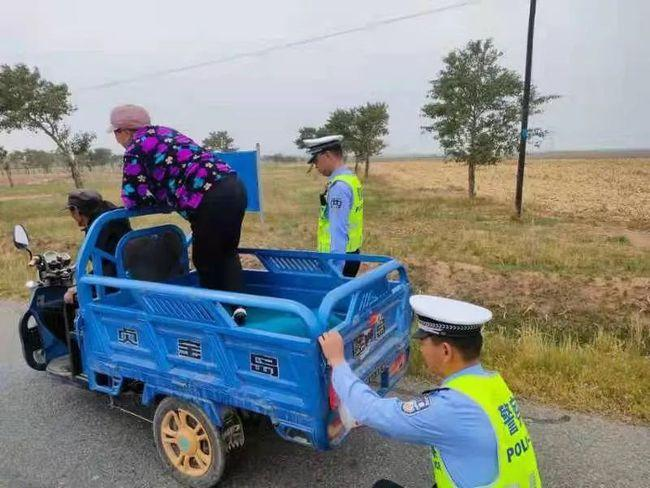driver: (41, 179, 131, 377)
overloading: (14, 99, 408, 452)
passenger: (105, 102, 254, 302)
